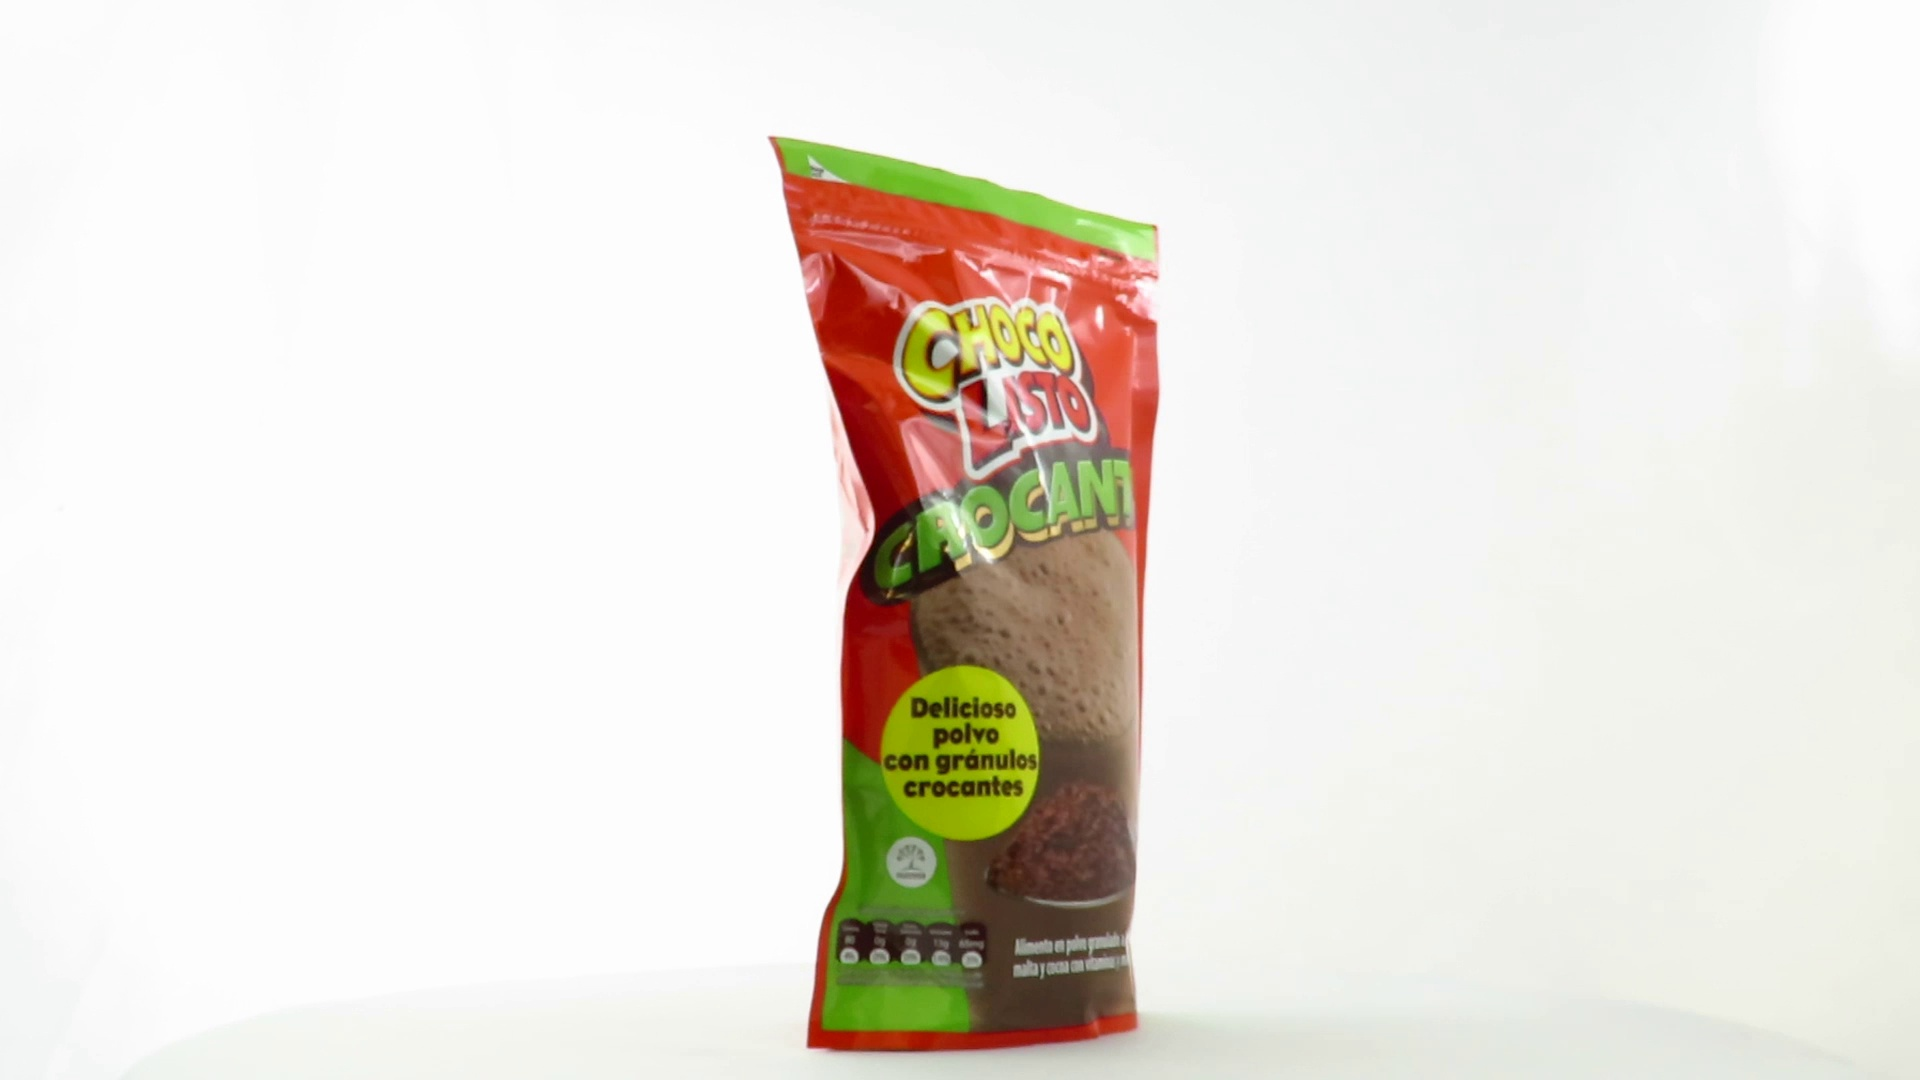COL0170102DYP50000: (764, 131, 1166, 1059)
